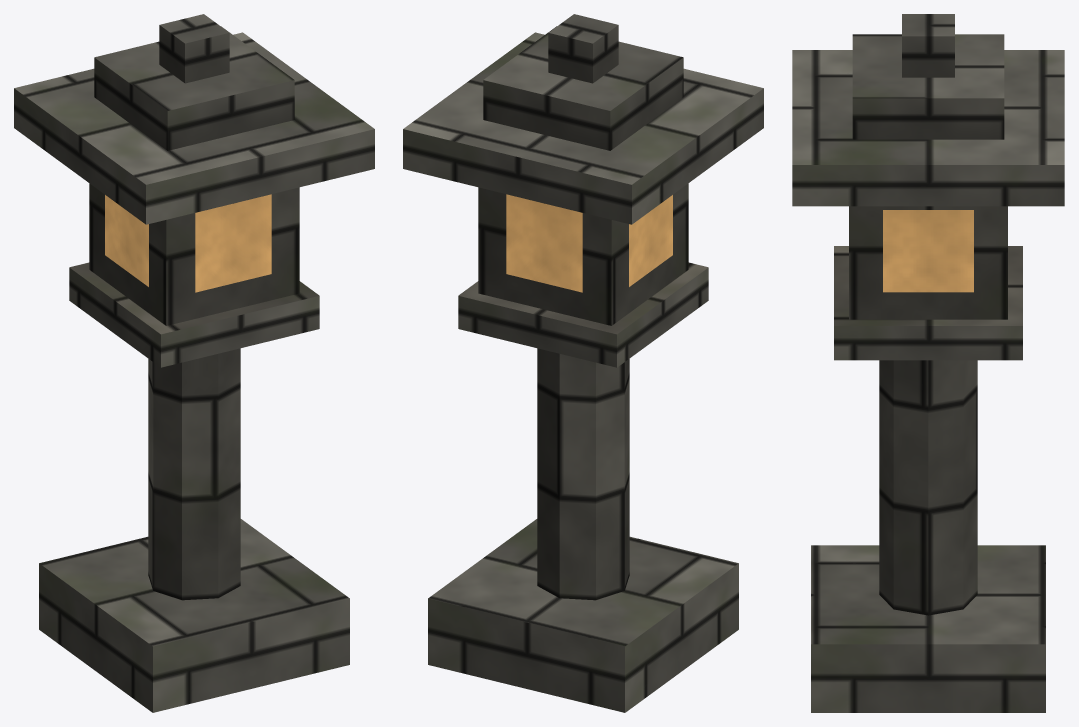
File: toro.glb
3 views of the same model, side by side, from view 1: azimuth 30°, elevation 25°; view 2: azimuth 150°, elevation 25°; view 3: azimuth 270°, elevation 25° (orthographic). The views are drawn at different scales.
Parts seen in each view (by area): view 1: toro; view 2: toro; view 3: toro.
Boxes of the visible parts, x1,y1,x2,y2 form: toro: (14, 14, 374, 712); toro: (403, 14, 763, 712); toro: (792, 14, 1064, 712).
Size of the model in its own units: 0.72 by 1.86 by 0.72.
2 materials, 2 textured.
